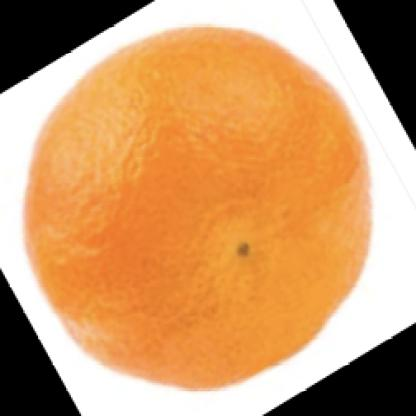orange: (19, 29, 374, 394)
